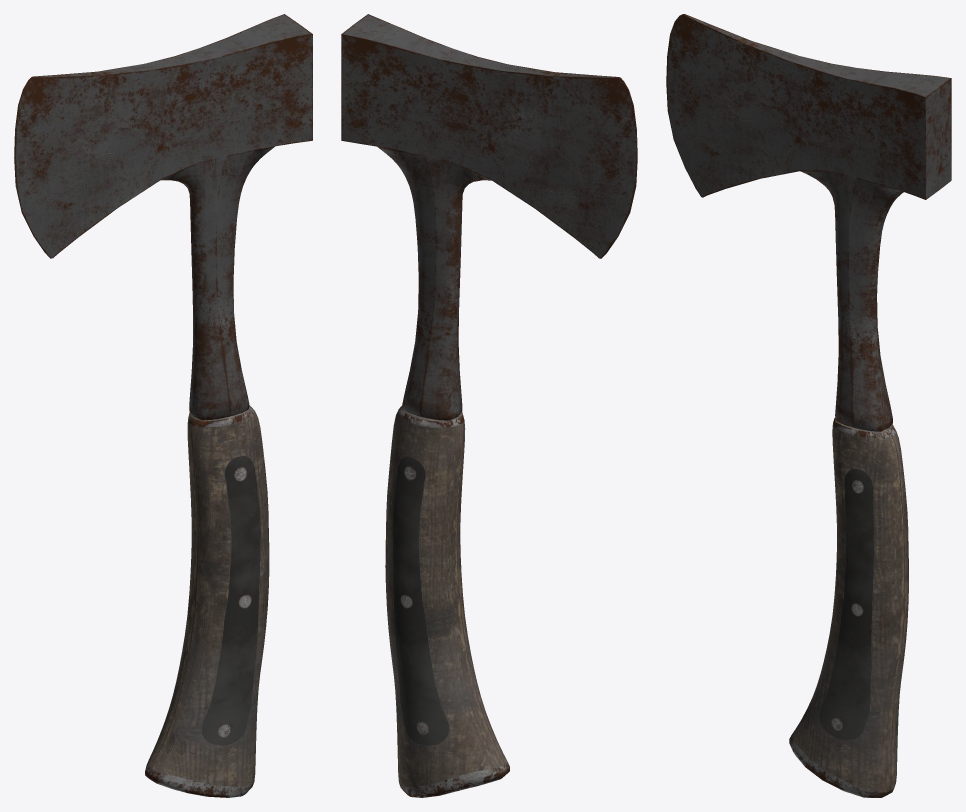
Rendered from hatchet_lod0.glb.
The picture shows the model from 3 angles, left to right: view 1: azimuth 30°, elevation 25°; view 2: azimuth 150°, elevation 25°; view 3: azimuth 330°, elevation 25°; orthographic projection. The views are drawn at different scales.
Visible parts, largest first — view 1: Hatchet_LOD0_temp; view 2: Hatchet_LOD0_temp; view 3: Hatchet_LOD0_temp.
Part boxes in pixels (x1,y1,x2,y2): Hatchet_LOD0_temp: (14, 14, 312, 797); Hatchet_LOD0_temp: (341, 14, 637, 797); Hatchet_LOD0_temp: (666, 14, 951, 797).
Bounding box in the file's own units: 0.2534 × 0.6488 × 0.0545.
1 material, 1 textured.
